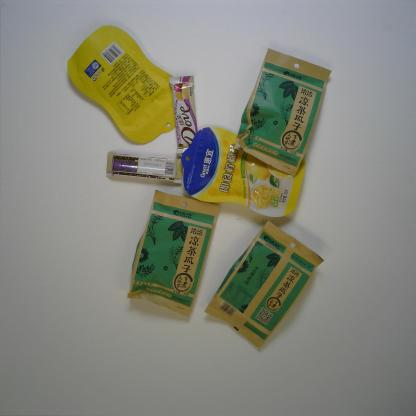Chocolate: (105, 151, 190, 182), (168, 75, 201, 154)
Dried Food: (203, 218, 324, 348), (236, 48, 333, 177), (126, 189, 222, 318)
Dried Fruit: (66, 24, 188, 145), (179, 125, 307, 218)
